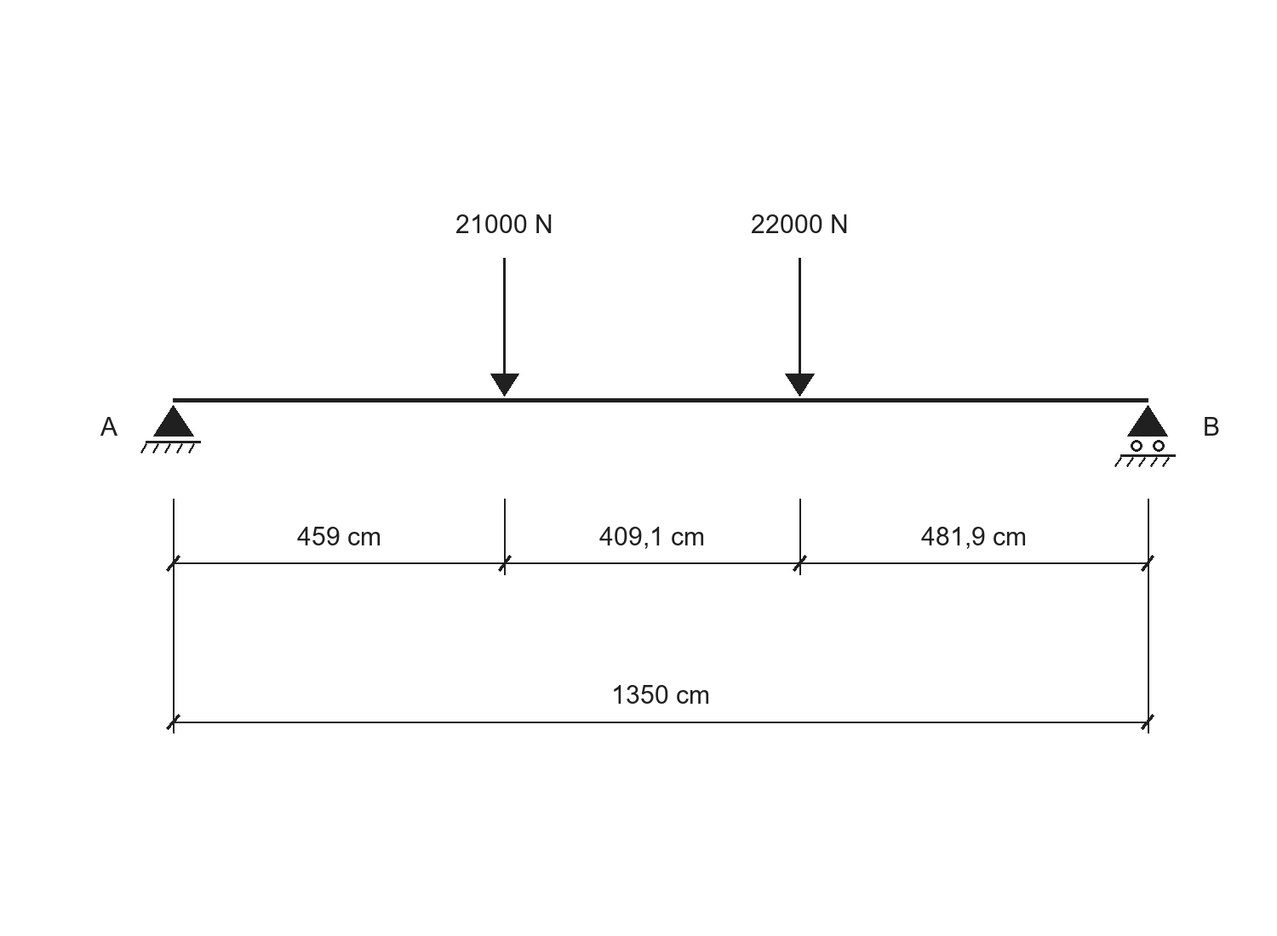pin_support: (140, 405, 201, 454)
point_load: (785, 258, 815, 397), (490, 258, 519, 397)
roller_support: (1114, 405, 1176, 467)
